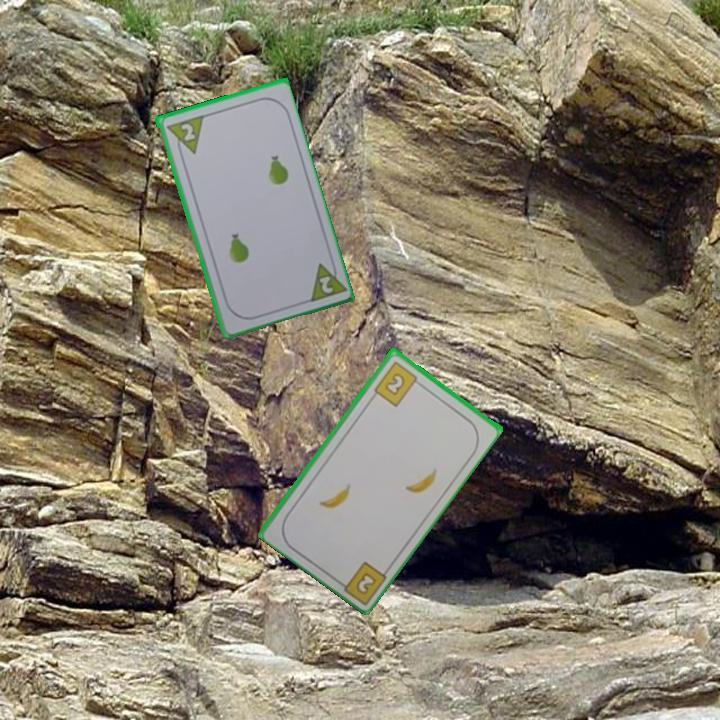2b: (370, 357, 423, 409), (352, 568, 379, 597)
2p: (177, 119, 198, 143), (315, 272, 336, 296)
